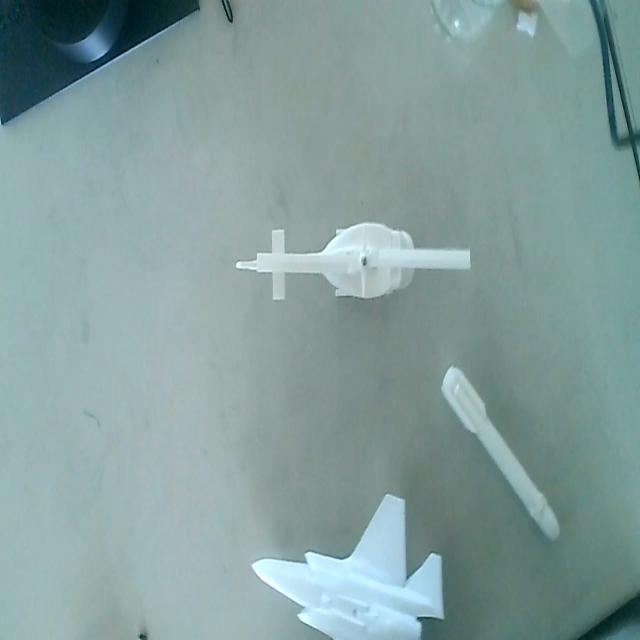Helicopter: (231, 202, 477, 324)
Jet: (247, 488, 451, 640)
Rocket: (438, 353, 562, 555)
